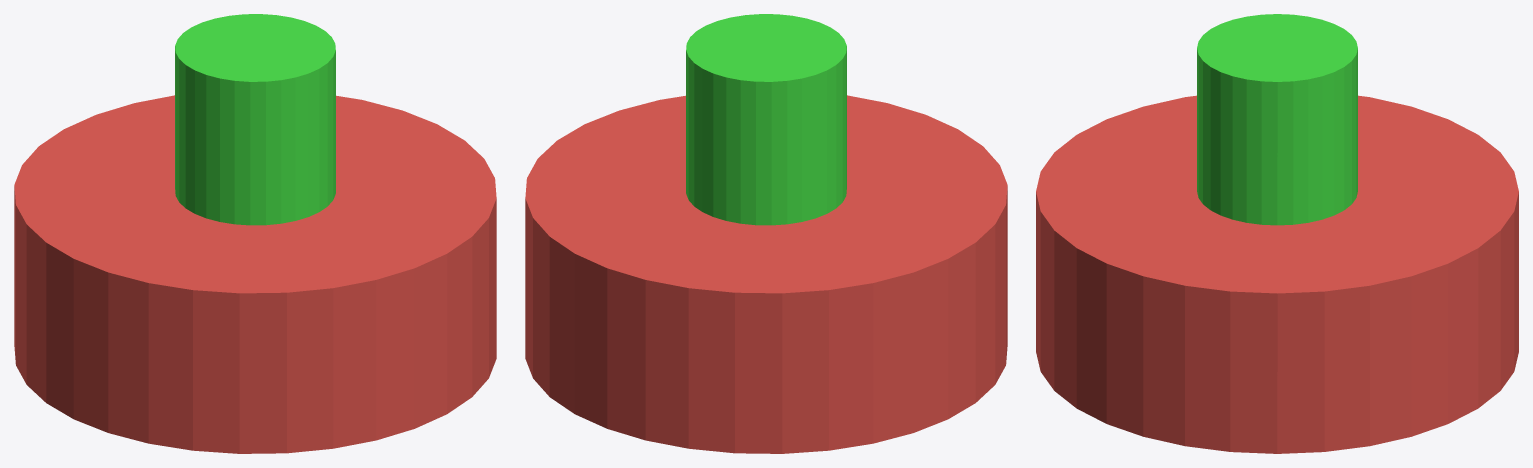
The model's file is UniversalButton.fbx.
3 renders of one model, left to right at view 1: azimuth 30°, elevation 25°; view 2: azimuth 150°, elevation 25°; view 3: azimuth 270°, elevation 25°, orthographic.
Parts seen in each view (by area): view 1: Cylinder, Cylinder.001; view 2: Cylinder, Cylinder.001; view 3: Cylinder, Cylinder.001.
Boxes of the visible parts, x1,y1,x2,y2 form: Cylinder: (14, 95, 496, 453); Cylinder.001: (175, 14, 335, 225); Cylinder: (525, 95, 1007, 453); Cylinder.001: (686, 14, 846, 225); Cylinder: (1036, 95, 1518, 453); Cylinder.001: (1197, 14, 1357, 225).
Bounding box in the file's own units: 30 × 20.83 × 30.
